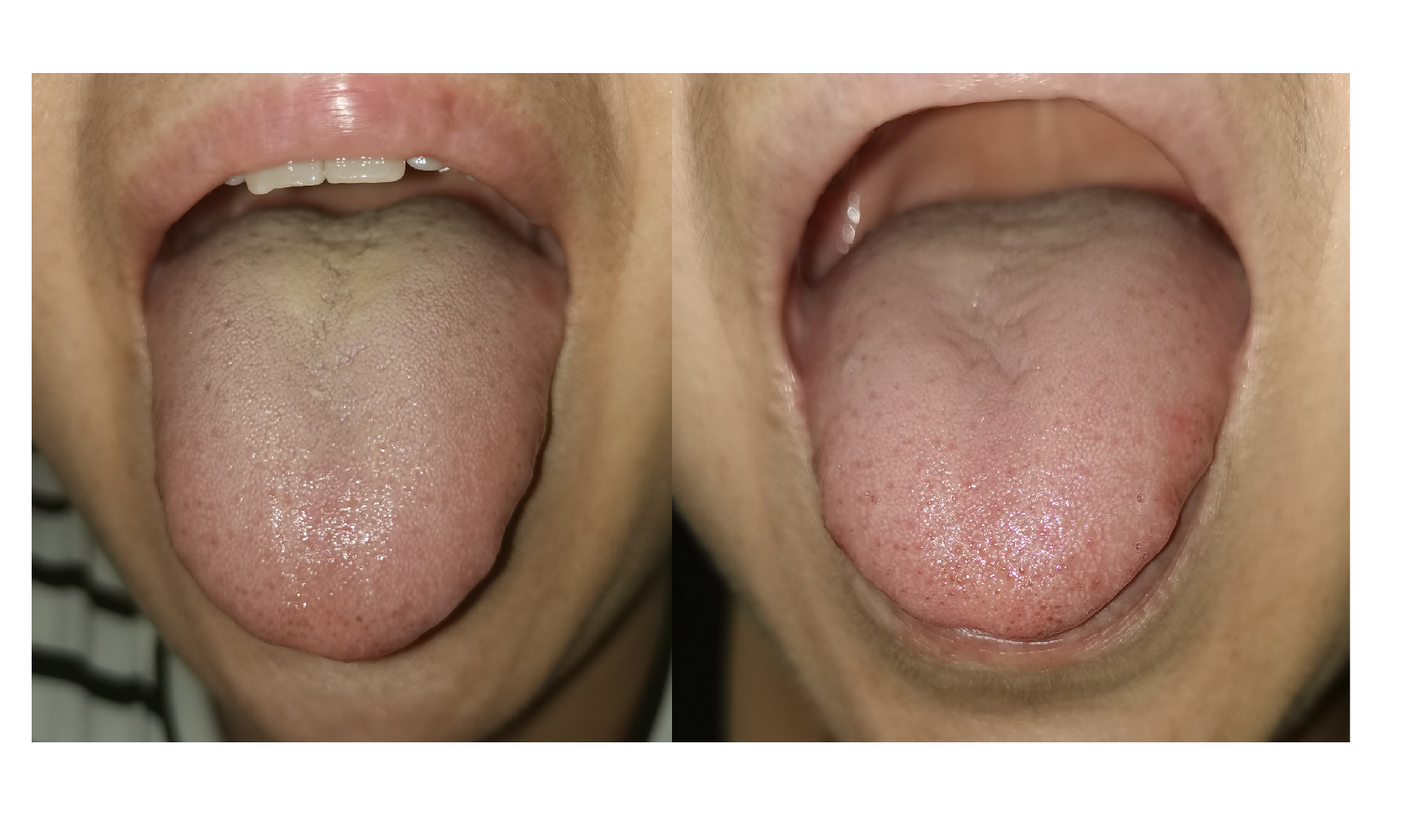baitaishe: (811, 186, 1249, 639)
hongdianshe: (1017, 564, 1025, 577)
huangtaishe: (150, 195, 561, 661)
